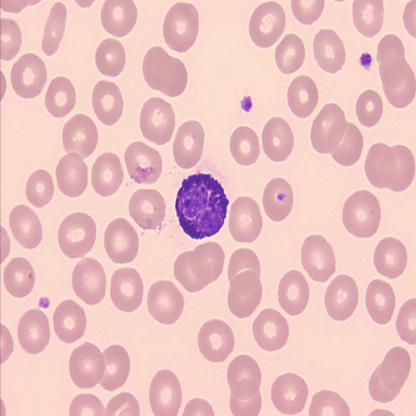Basophil: (172, 168, 232, 247)
